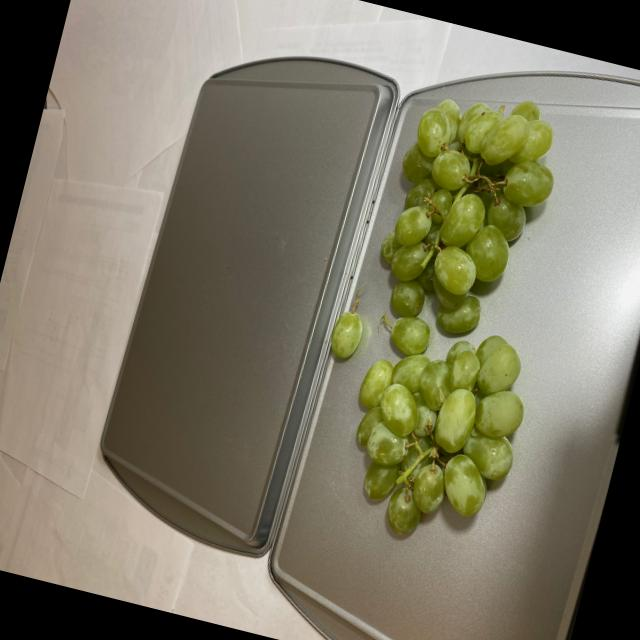grapes: (292, 72, 602, 562)
